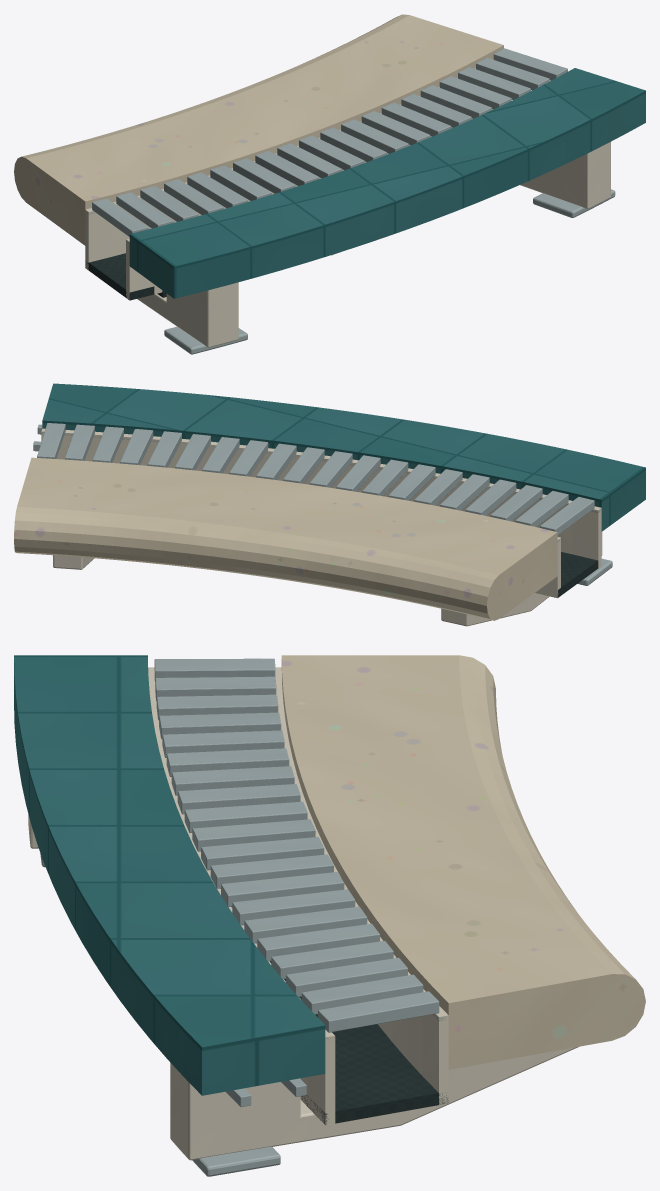
Rendered from AST-AQU-004.glb.
3 views of the same model, one above another, from view 1: azimuth 30°, elevation 25°; view 2: azimuth 150°, elevation 25°; view 3: azimuth 270°, elevation 25° (orthographic). The views are drawn at different scales.
Visible parts, largest first — view 1: AST-AQU-004__aquatic_edge_tile, AST-AQU-004__warm_stone, AST-AQU-004__aquatic_satin_alloy, AST-AQU-004__ivory_enamel, AST-AQU-004__aquatic_dark_grip; view 2: AST-AQU-004__warm_stone, AST-AQU-004__aquatic_edge_tile, AST-AQU-004__aquatic_satin_alloy, AST-AQU-004__ivory_enamel, AST-AQU-004__aquatic_dark_grip; view 3: AST-AQU-004__warm_stone, AST-AQU-004__aquatic_edge_tile, AST-AQU-004__aquatic_satin_alloy, AST-AQU-004__ivory_enamel, AST-AQU-004__aquatic_dark_grip.
Part boxes in pixels (box(x1,y1,x2,y2)): AST-AQU-004__aquatic_edge_tile: box(129, 68, 645, 298); AST-AQU-004__warm_stone: box(14, 14, 503, 245); AST-AQU-004__aquatic_satin_alloy: box(85, 48, 615, 354); AST-AQU-004__ivory_enamel: box(85, 59, 610, 347); AST-AQU-004__aquatic_dark_grip: box(85, 253, 166, 300); AST-AQU-004__warm_stone: box(14, 457, 557, 620); AST-AQU-004__aquatic_edge_tile: box(42, 383, 645, 531); AST-AQU-004__aquatic_satin_alloy: box(33, 423, 612, 585); AST-AQU-004__ivory_enamel: box(41, 428, 602, 626); AST-AQU-004__aquatic_dark_grip: box(557, 552, 598, 597); AST-AQU-004__warm_stone: box(281, 655, 645, 1069); AST-AQU-004__aquatic_edge_tile: box(14, 655, 325, 1095); AST-AQU-004__aquatic_satin_alloy: box(40, 658, 448, 1176); AST-AQU-004__ivory_enamel: box(28, 667, 578, 1160); AST-AQU-004__aquatic_dark_grip: box(232, 907, 448, 1124).
Bounding box in the file's own units: 1.39 × 0.25 × 0.9442.
5 materials, 5 textured.
